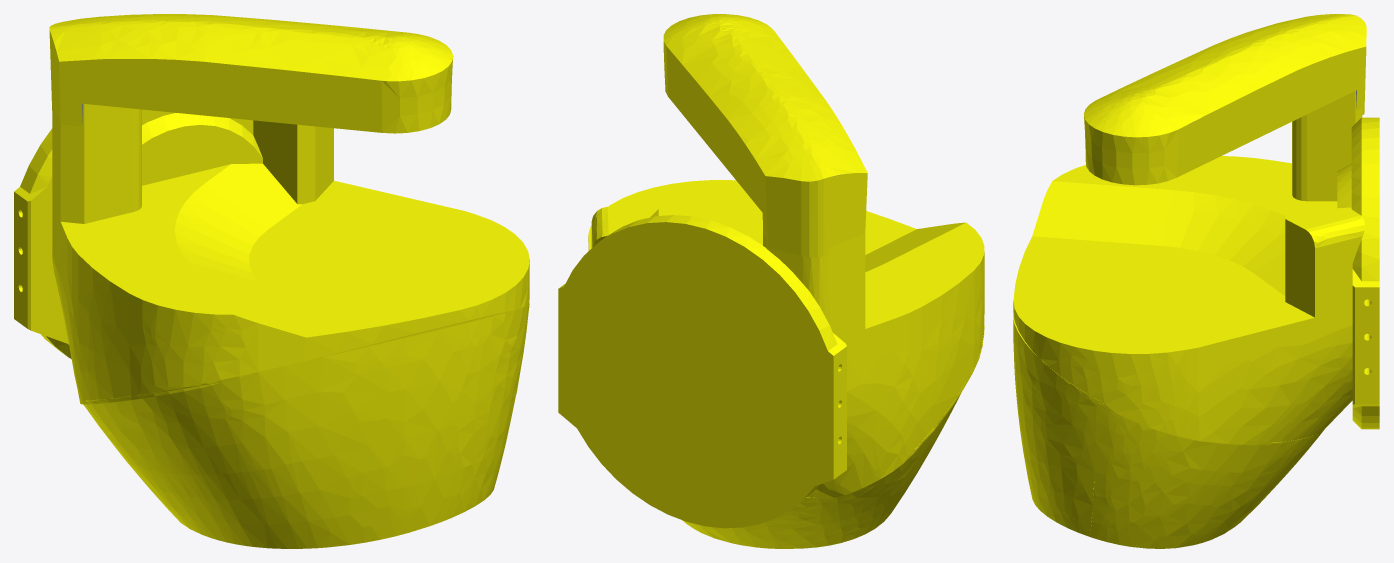
The picture shows the model from 3 angles, left to right: view 1: azimuth 30°, elevation 25°; view 2: azimuth 150°, elevation 25°; view 3: azimuth 270°, elevation 25°; orthographic projection. The views are drawn at different scales.
Visible parts, largest first — view 1: node; view 2: node; view 3: node.
Part boxes in pixels (<box>): node: <box>14,14,529,548</box>; node: <box>558,14,984,548</box>; node: <box>1013,14,1379,548</box>.
Size of the model in its own units: 537 by 642 by 484.
